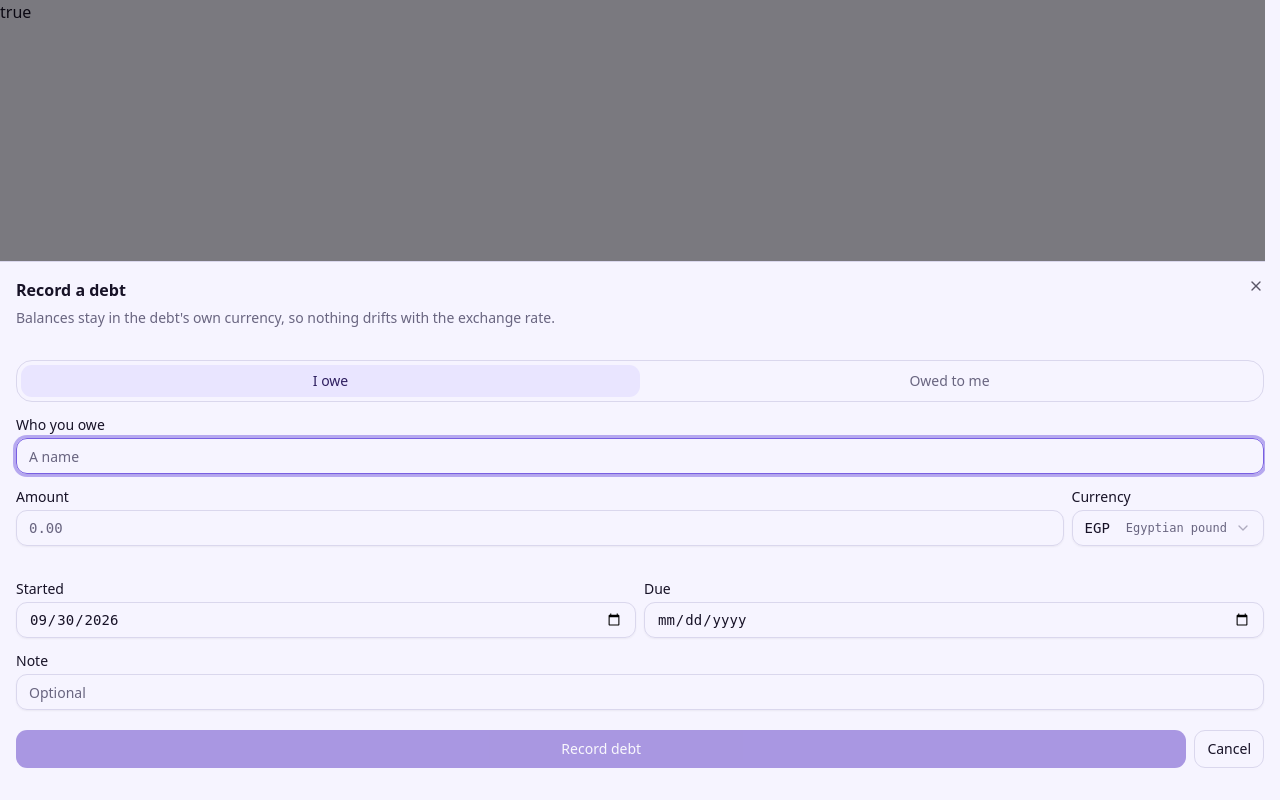
when the server refuses › puts the message on the field it names
The width and height of the screenshot is (1280, 800).
In the field labelled "Who you owe": (640, 456) [16,438,1264,474], type "Mostafa"
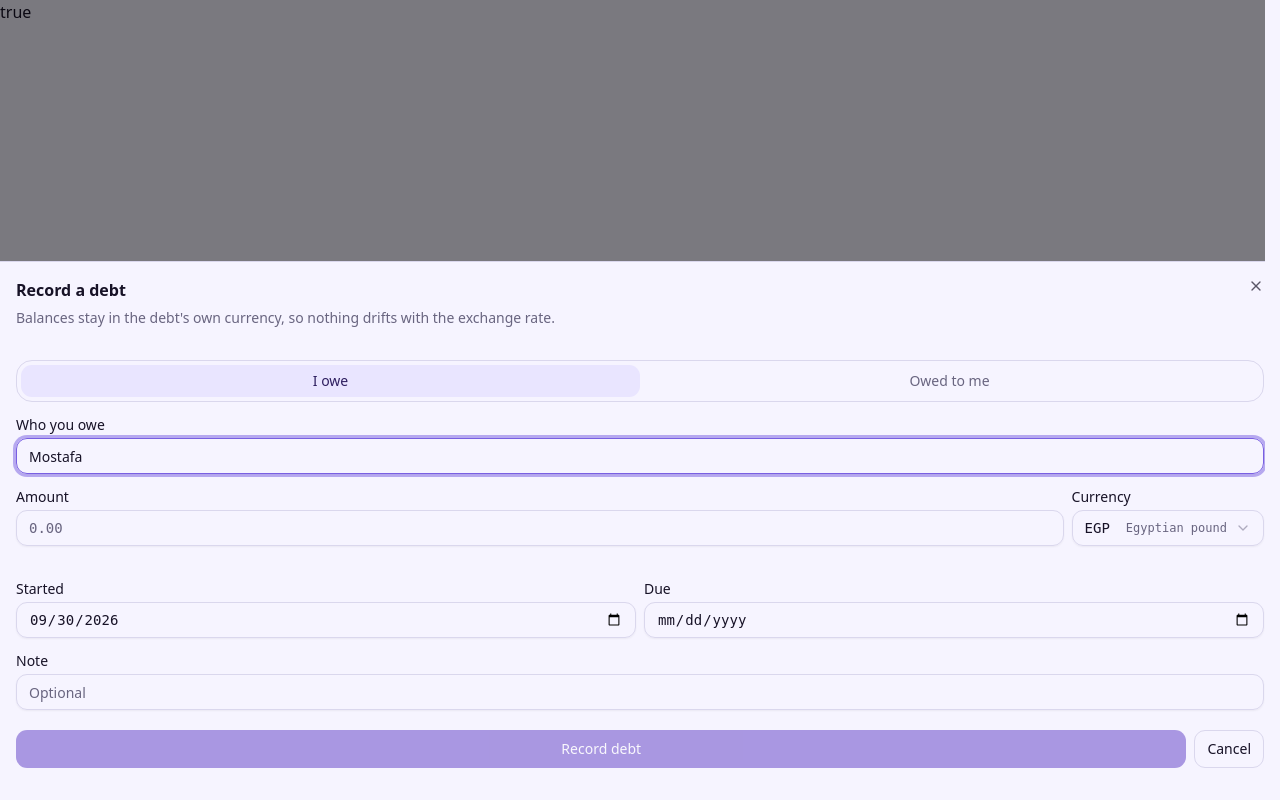
In the field labelled "Amount": (540, 528) [16,510,1064,546], type "100"
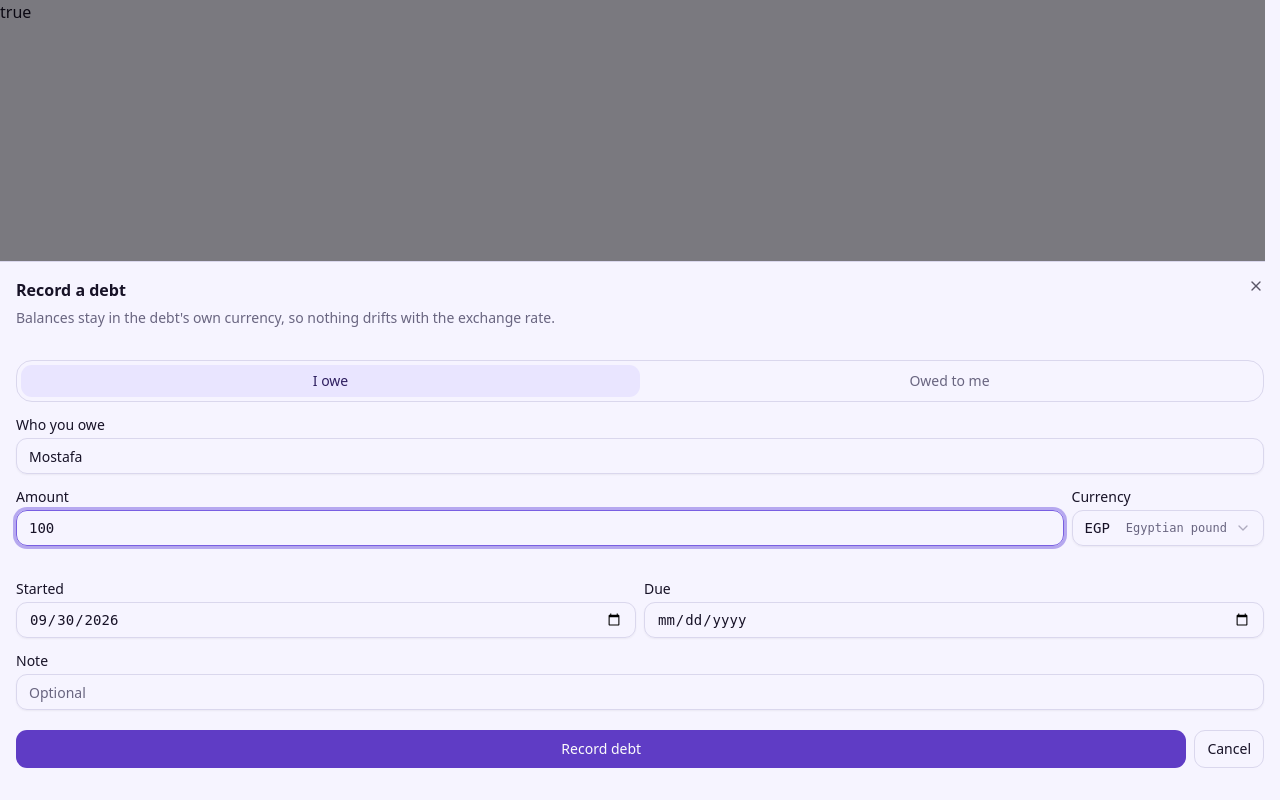
Click the button "Record debt": click(601, 749) [16,730,1186,768]
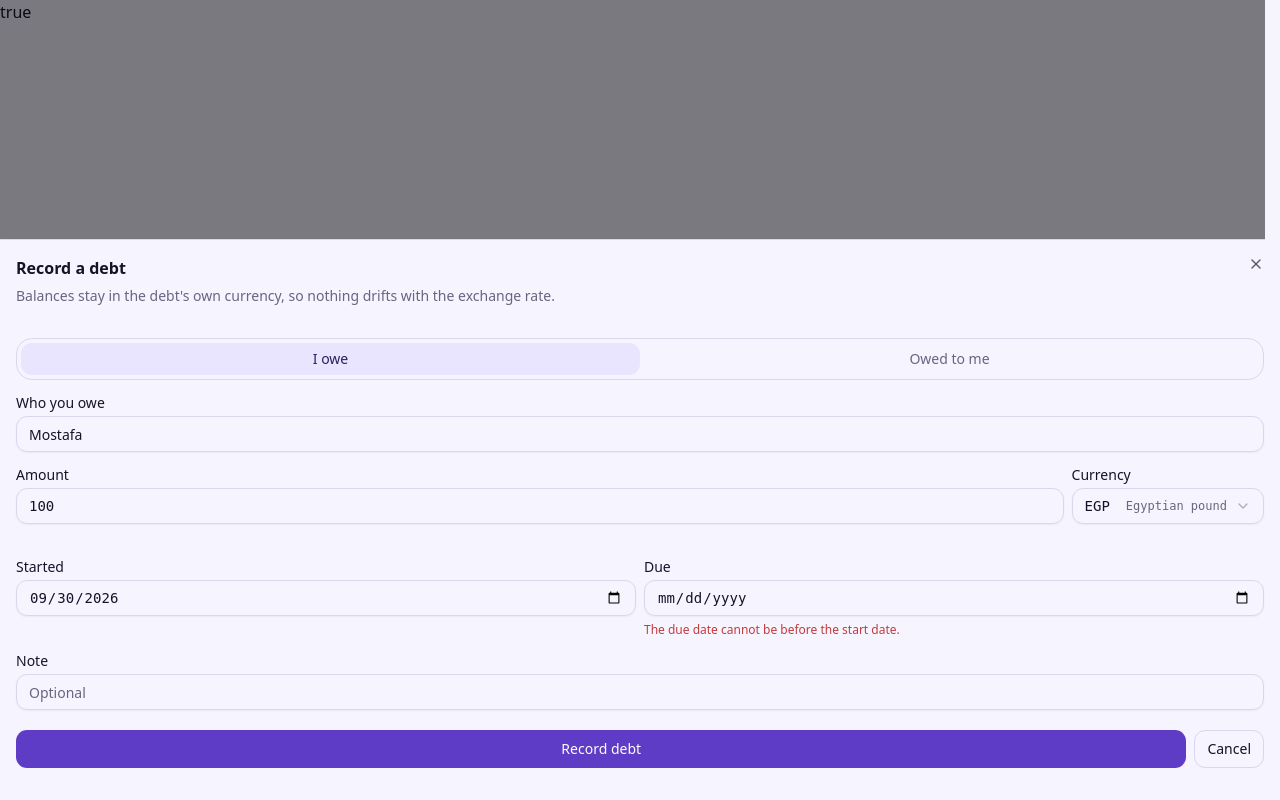
Expected: the text with test id "open" reads "true", [0,1,31,23]
Expected: the text "The due date cannot be before the start date." is shown, [644,621,900,638]
